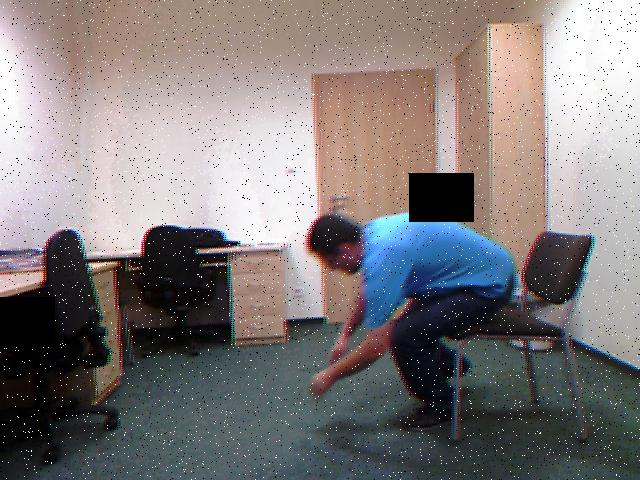near-fall: (308, 211, 515, 430)
